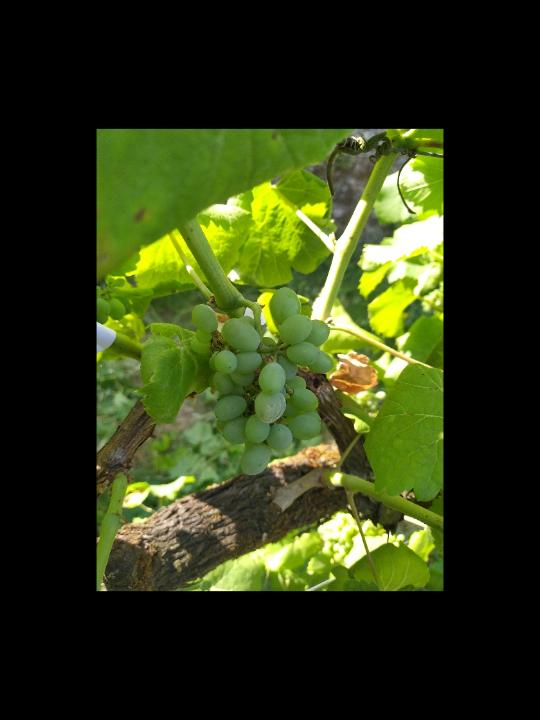grape: (185, 286, 339, 479)
